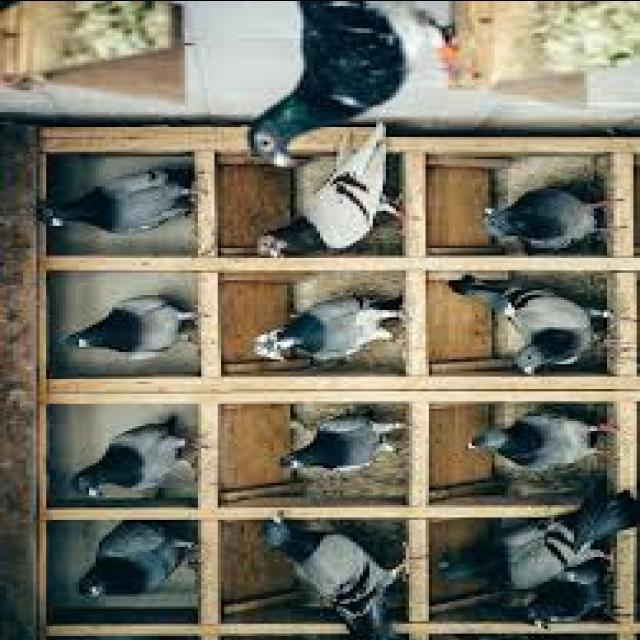pigeon: (246, 128, 422, 270), (242, 290, 402, 373)
